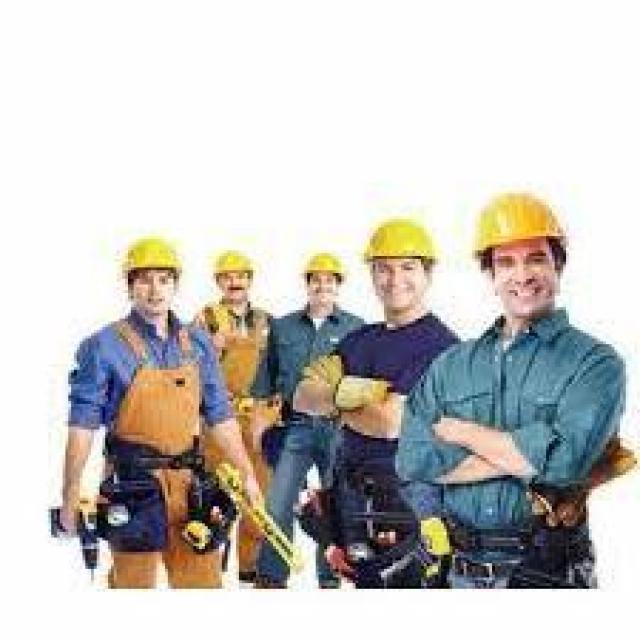Reflective-Jacket: (88, 316, 208, 469)
Safety-Helmet: (467, 182, 578, 259), (358, 213, 449, 270), (111, 228, 191, 282), (202, 242, 264, 284), (293, 244, 353, 282)
